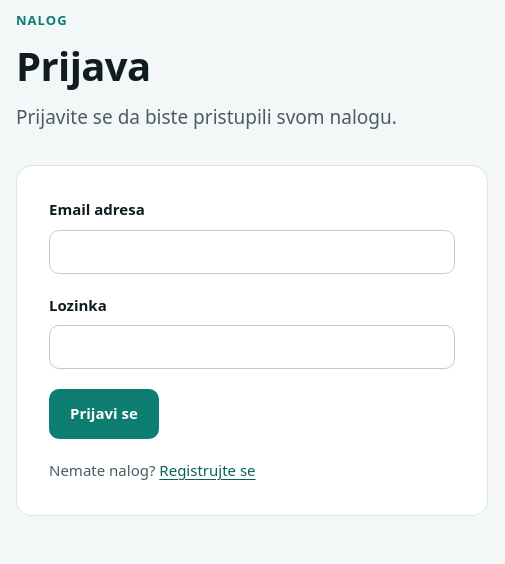
Test: LoginPage validation › a missing password alone is still caught
Type "ana@example.com" into the field labelled "Email adresa" at (252, 252), box [49,230,455,274]
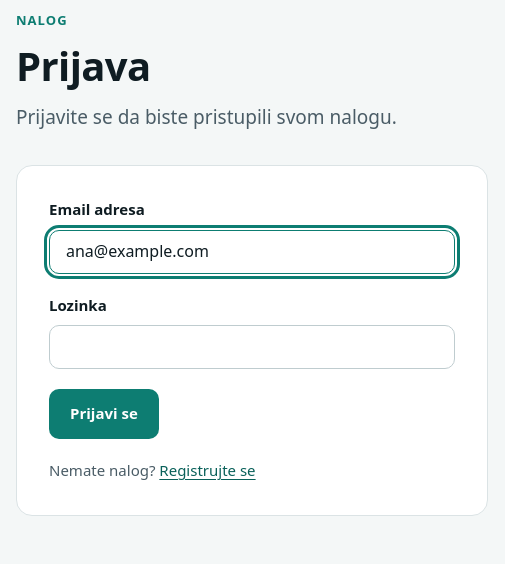
Click the button "Prijavi se" at (104, 414), box [49,389,159,439]
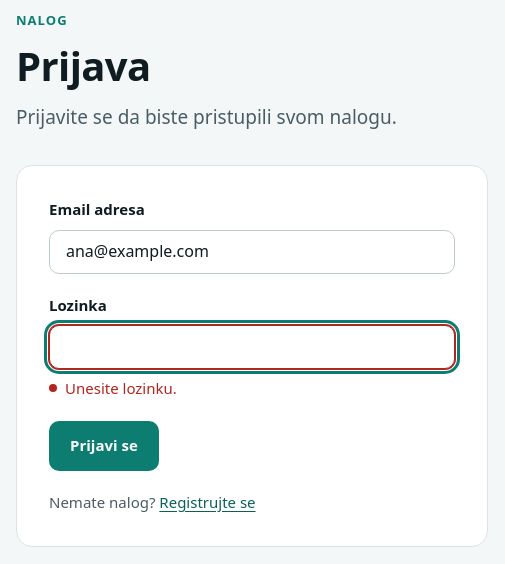
Now the text "Unesite lozinku." is shown, box [65,378,177,398]
